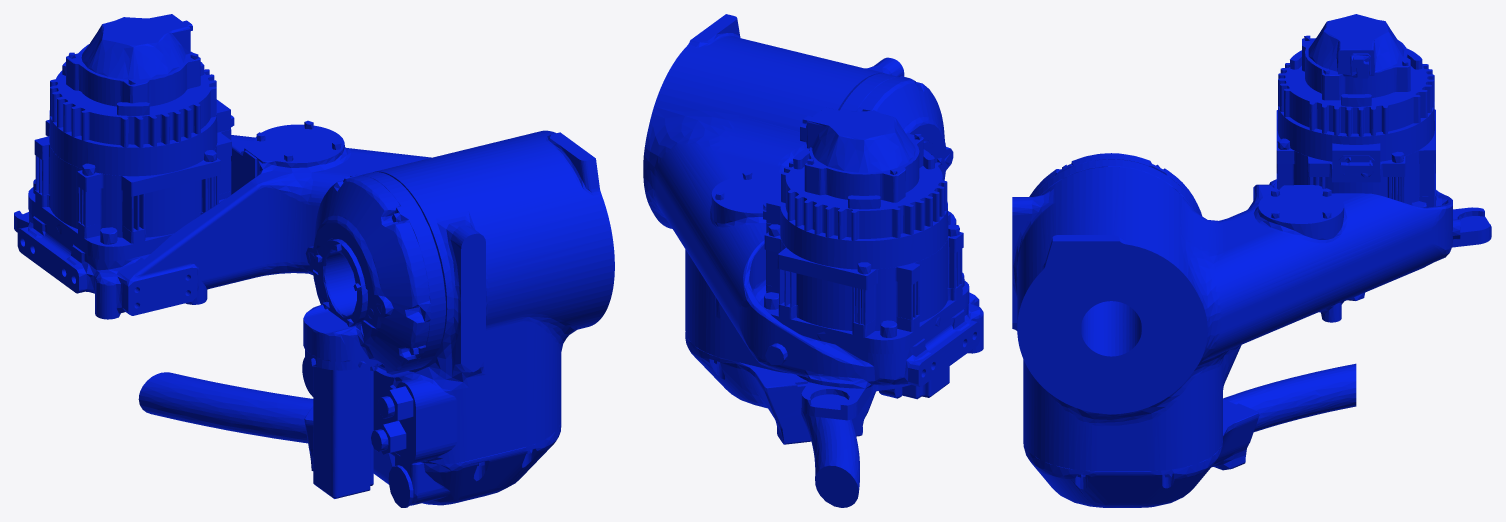
3 renders of one model, left to right at view 1: azimuth 30°, elevation 25°; view 2: azimuth 150°, elevation 25°; view 3: azimuth 270°, elevation 25°, orthographic. The views are drawn at different scales.
Visible parts, largest first — view 1: /Gp12_Link_3_U/Gp12_Link_3_U_001-mesh/0; view 2: /Gp12_Link_3_U/Gp12_Link_3_U_001-mesh/0; view 3: /Gp12_Link_3_U/Gp12_Link_3_U_001-mesh/0.
Part boxes in pixels (x1=…): /Gp12_Link_3_U/Gp12_Link_3_U_001-mesh/0: x1=14, y1=14, x2=614, y2=507; /Gp12_Link_3_U/Gp12_Link_3_U_001-mesh/0: x1=643, y1=14, x2=983, y2=507; /Gp12_Link_3_U/Gp12_Link_3_U_001-mesh/0: x1=1012, y1=14, x2=1491, y2=507.
Size of the model in its own units: 0.34 by 0.3355 by 0.3916.
